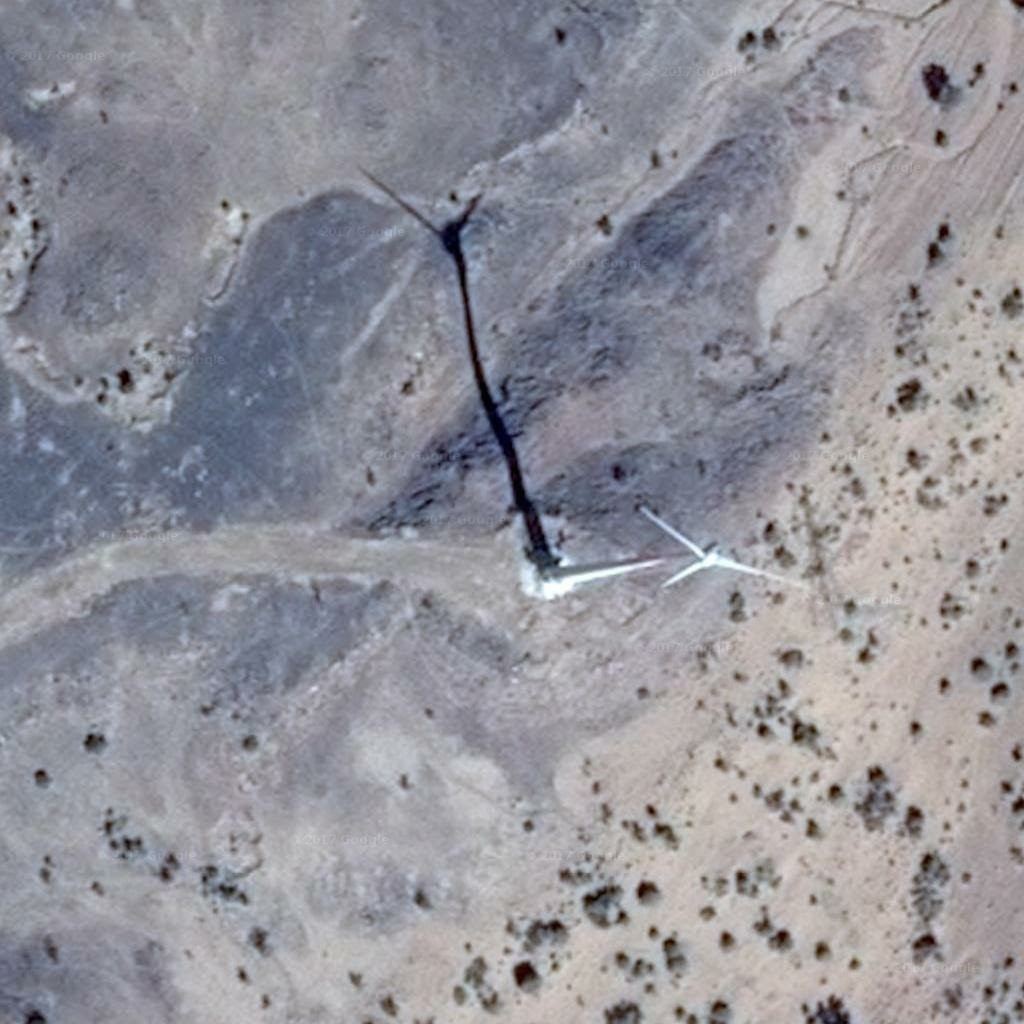Windmill: (355, 160, 568, 571)
